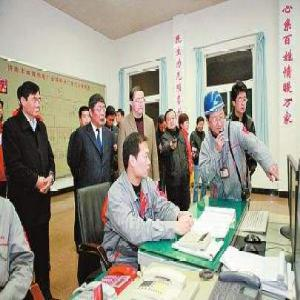blue: (203, 91, 226, 132)
none: (123, 132, 151, 178), (20, 80, 42, 119), (89, 96, 106, 127), (232, 82, 248, 113), (131, 87, 146, 117), (166, 110, 178, 131), (80, 107, 92, 127), (105, 107, 116, 128), (179, 113, 190, 132), (159, 115, 168, 134), (116, 109, 125, 124), (197, 116, 205, 132)
